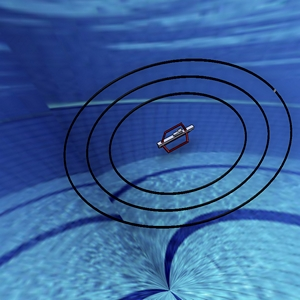circle: (55, 43, 300, 243)
submarine: (149, 110, 197, 163)
